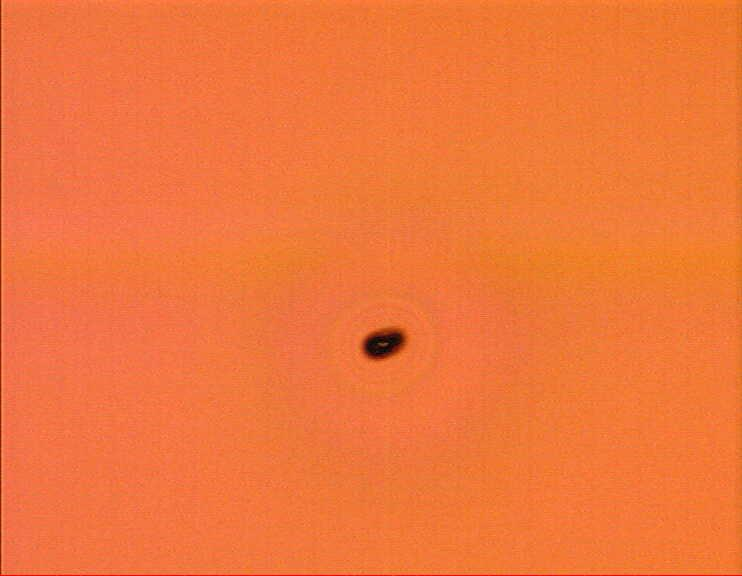PIQ PARTICLE: (358, 323, 411, 365)
